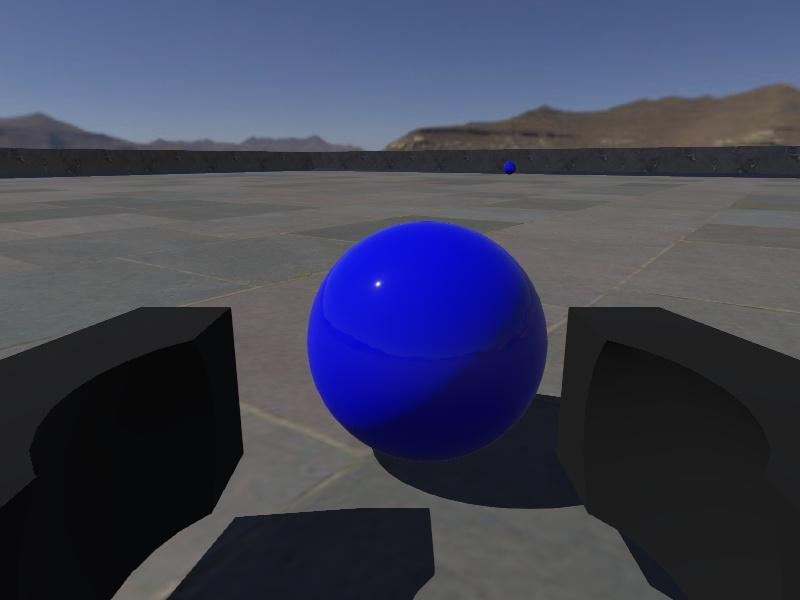blue ball: (307, 219, 548, 464), (502, 160, 518, 175)
